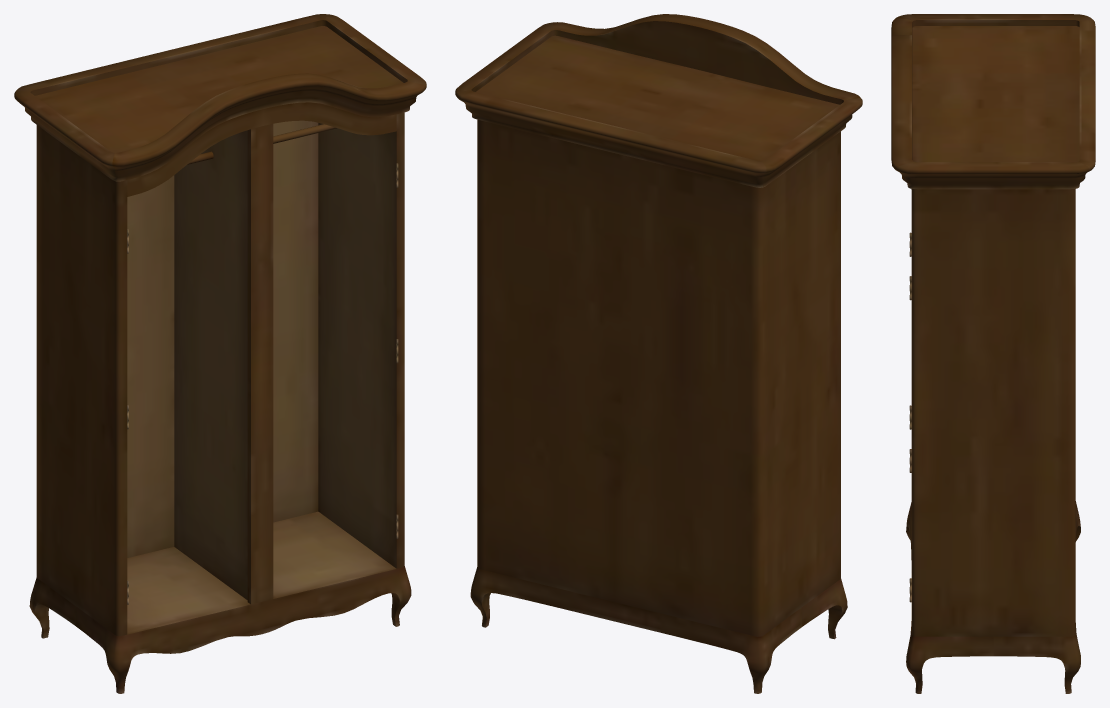
Rendered from SM_wardrobe_da578e.glb.
3 views of the same model, side by side, from view 1: azimuth 30°, elevation 25°; view 2: azimuth 150°, elevation 25°; view 3: azimuth 270°, elevation 25° (orthographic).
Size of the model in its own units: 1.18 by 2.03 by 0.6563.
Materials: 1 (1 with a texture image).
